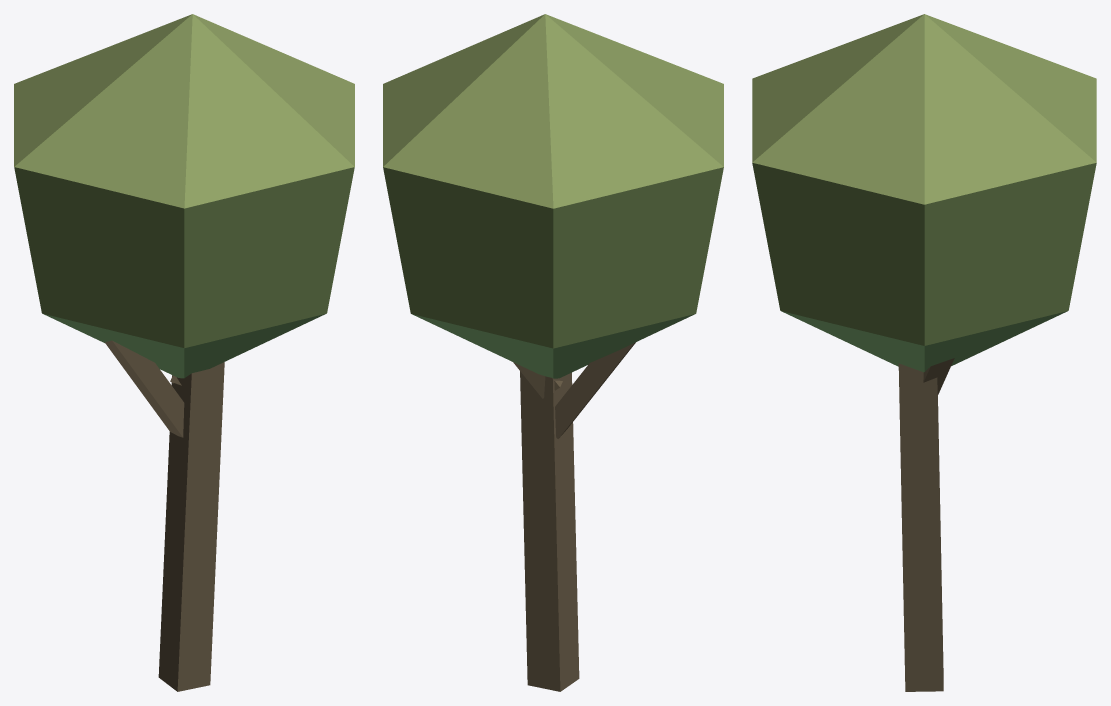
Rendered from ua_valley_orchard.obj.
3 views of the same model, side by side, from view 1: azimuth 30°, elevation 25°; view 2: azimuth 150°, elevation 25°; view 3: azimuth 270°, elevation 25° (orthographic).
Visible parts, largest first — view 1: ua_valley_orchard; view 2: ua_valley_orchard; view 3: ua_valley_orchard.
Boxes of the visible parts, x1=… form: ua_valley_orchard: x1=14, y1=14, x2=354, y2=691; ua_valley_orchard: x1=383, y1=14, x2=723, y2=691; ua_valley_orchard: x1=752, y1=14, x2=1096, y2=691.
Size of the model in its own units: 2.08 by 3.89 by 1.8.
